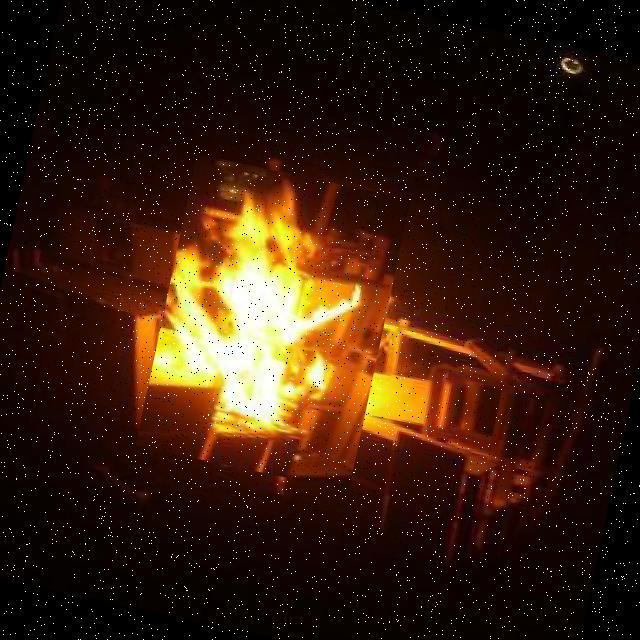fire: (135, 154, 410, 491)
